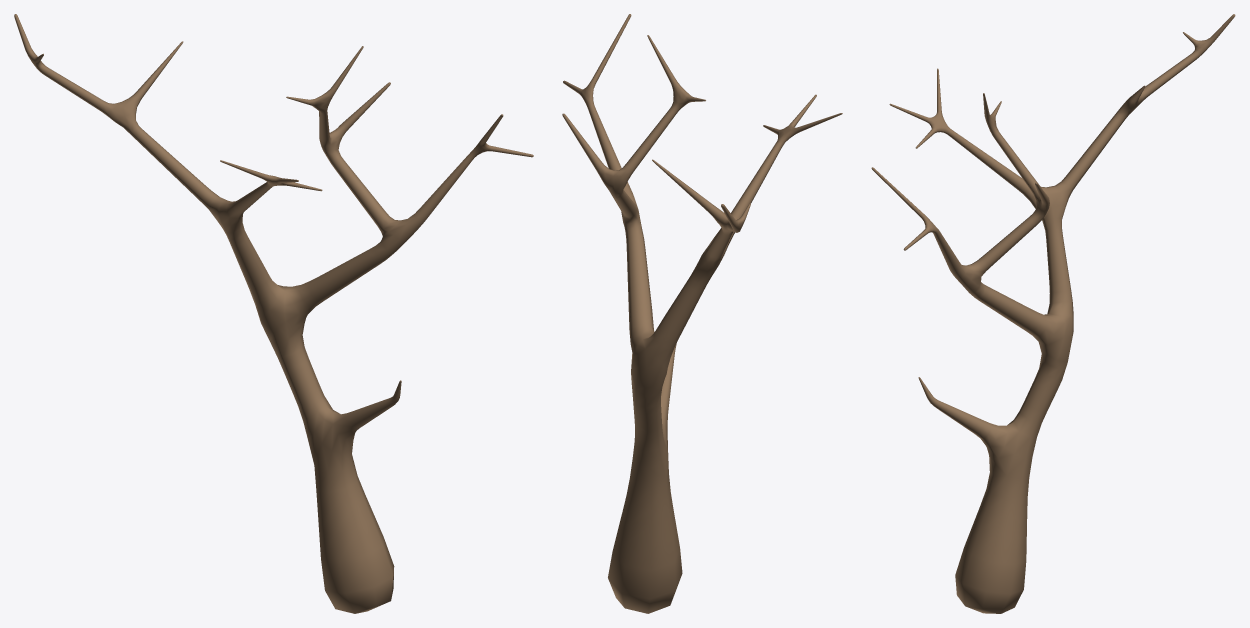
File: Tree_Dead_01.fbx
3 renders of one model, left to right at view 1: azimuth 30°, elevation 25°; view 2: azimuth 150°, elevation 25°; view 3: azimuth 270°, elevation 25°, orthographic. The views are drawn at different scales.
Parts seen in each view (by area): view 1: Tree_Dead_01_Geometry; view 2: Tree_Dead_01_Geometry; view 3: Tree_Dead_01_Geometry.
Part boxes in pixels (x1=…): Tree_Dead_01_Geometry: x1=14, y1=14, x2=533, y2=613; Tree_Dead_01_Geometry: x1=562, y1=14, x2=842, y2=613; Tree_Dead_01_Geometry: x1=871, y1=14, x2=1235, y2=613.
Size of the model in its own units: 3.46 by 5.51 by 3.5.
